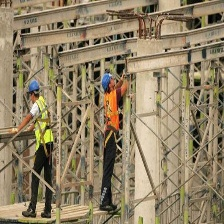helmet: (100, 72, 115, 101), (28, 81, 42, 97)
person: (25, 81, 55, 222), (99, 72, 123, 211)
vest: (29, 97, 55, 154), (104, 91, 121, 129)
